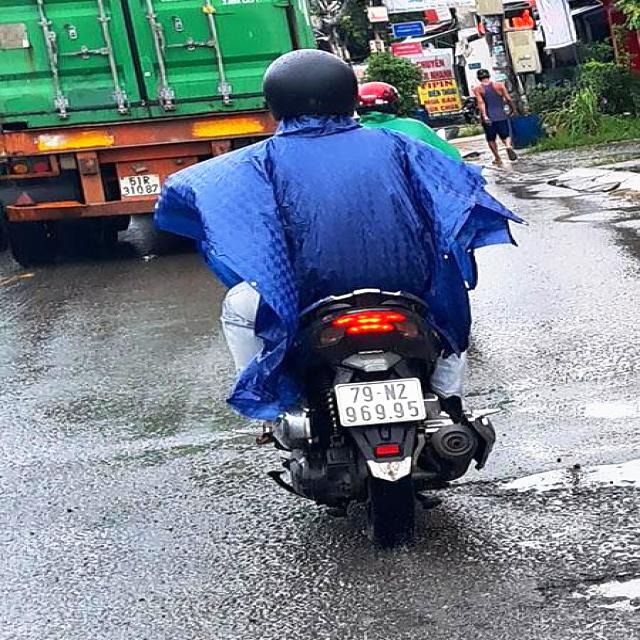license_plate: (339, 377, 429, 429)
